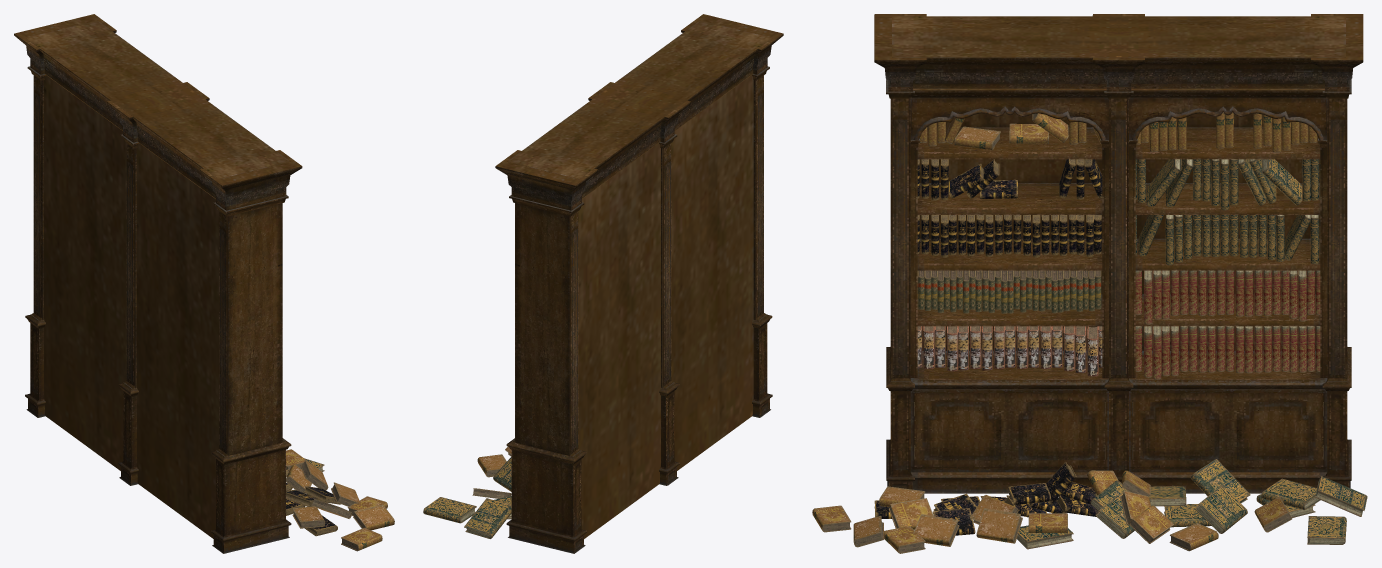
The model's file is sm39_117_bookshelsetf03a.fbx.
3 views of the same model, side by side, from view 1: azimuth 30°, elevation 25°; view 2: azimuth 150°, elevation 25°; view 3: azimuth 270°, elevation 25° (orthographic). The views are drawn at different scales.
Visible parts, largest first — view 1: LOD_1_Group_0_Sub_1__sm30_159_BookShelf01A_B_Mat, LOD_1_Group_1_Sub_1__sm36_001_BookSet01A_A_Mat; view 2: LOD_1_Group_0_Sub_1__sm30_159_BookShelf01A_B_Mat, LOD_1_Group_10_Sub_1__sm36_001_BookSet01A_A_Mat, LOD_1_Group_1_Sub_1__sm36_001_BookSet01A_A_Mat; view 3: LOD_1_Group_0_Sub_1__sm30_159_BookShelf01A_B_Mat, LOD_1_Group_1_Sub_1__sm36_001_BookSet01A_A_Mat, LOD_1_Group_8_Sub_1__sm36_001_BookSet01A_A_Mat, LOD_1_Group_9_Sub_1__sm36_001_BookSet01A_A_Mat, LOD_1_Group_7_Sub_1__sm36_001_BookSet01A_A_Mat, LOD_1_Group_6_Sub_1__sm36_001_BookSet01A_A_Mat, LOD_1_Group_4_Sub_1__sm36_001_BookSet01A_A_Mat, LOD_1_Group_5_Sub_1__sm36_001_BookSet01A_A_Mat, LOD_1_Group_2_Sub_1__sm36_001_BookSet01A_A_Mat, LOD_1_Group_0_Sub_2__sm36_001_BookSet01A_A_Mat, LOD_1_Group_10_Sub_1__sm36_001_BookSet01A_A_Mat.
Part boxes in pixels (left/top/right/bottom): LOD_1_Group_0_Sub_1__sm30_159_BookShelf01A_B_Mat: left=14, top=14, right=302, bottom=553; LOD_1_Group_1_Sub_1__sm36_001_BookSet01A_A_Mat: left=286, top=449, right=394, bottom=551; LOD_1_Group_0_Sub_1__sm30_159_BookShelf01A_B_Mat: left=495, top=14, right=783, bottom=553; LOD_1_Group_10_Sub_1__sm36_001_BookSet01A_A_Mat: left=423, top=497, right=511, bottom=538; LOD_1_Group_1_Sub_1__sm36_001_BookSet01A_A_Mat: left=472, top=446, right=511, bottom=519; LOD_1_Group_0_Sub_1__sm30_159_BookShelf01A_B_Mat: left=874, top=14, right=1363, bottom=493; LOD_1_Group_1_Sub_1__sm36_001_BookSet01A_A_Mat: left=812, top=112, right=1320, bottom=553; LOD_1_Group_8_Sub_1__sm36_001_BookSet01A_A_Mat: left=1135, top=270, right=1320, bottom=324; LOD_1_Group_9_Sub_1__sm36_001_BookSet01A_A_Mat: left=917, top=326, right=1102, bottom=376; LOD_1_Group_7_Sub_1__sm36_001_BookSet01A_A_Mat: left=917, top=270, right=1101, bottom=313; LOD_1_Group_6_Sub_1__sm36_001_BookSet01A_A_Mat: left=1135, top=215, right=1320, bottom=265; LOD_1_Group_4_Sub_1__sm36_001_BookSet01A_A_Mat: left=1135, top=159, right=1320, bottom=210; LOD_1_Group_5_Sub_1__sm36_001_BookSet01A_A_Mat: left=917, top=215, right=1101, bottom=257; LOD_1_Group_2_Sub_1__sm36_001_BookSet01A_A_Mat: left=917, top=159, right=1102, bottom=200; LOD_1_Group_0_Sub_2__sm36_001_BookSet01A_A_Mat: left=918, top=113, right=1101, bottom=150; LOD_1_Group_10_Sub_1__sm36_001_BookSet01A_A_Mat: left=1307, top=476, right=1367, bottom=544.
Bounding box in the file's own units: 1.34 × 2.72 × 3.11.
